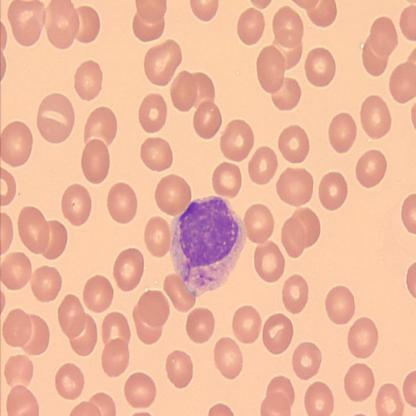Metamyelocyte: (168, 193, 249, 293)
